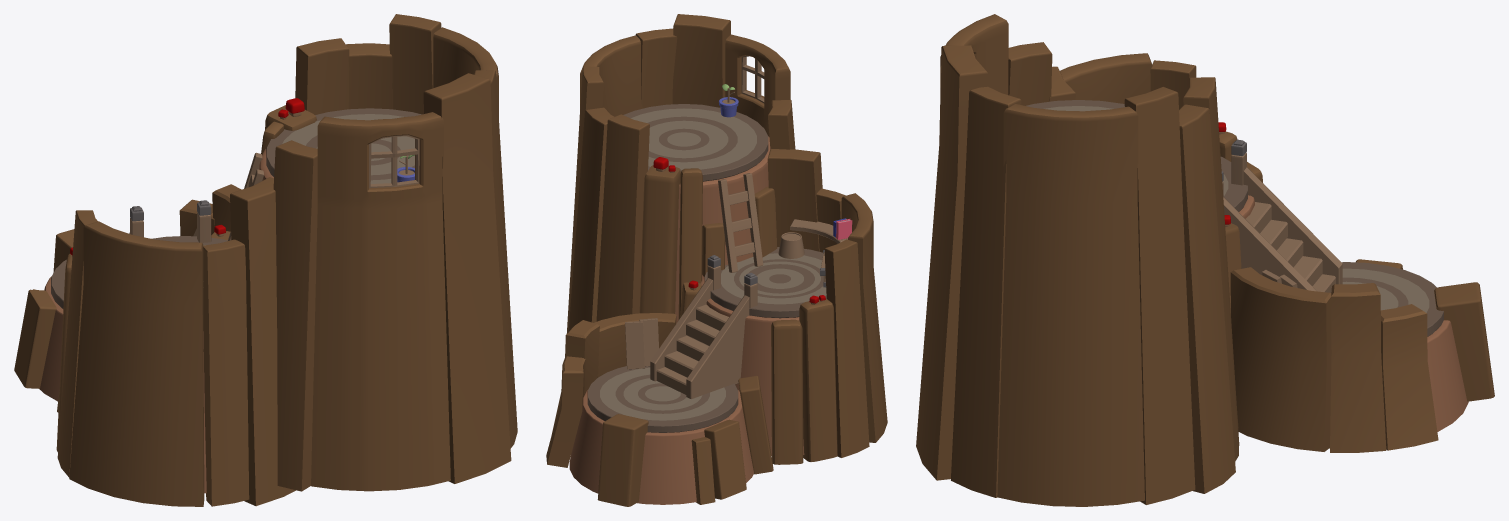
The model's file is Stump_House.fbx.
3 views of the same model, side by side, from view 1: azimuth 30°, elevation 25°; view 2: azimuth 150°, elevation 25°; view 3: azimuth 270°, elevation 25° (orthographic). The views are drawn at different scales.
Parts seen in each view (by area): view 1: polySurface3, polySurface14, polySurface8, polySurface11, polySurface16, polySurface17, polySurface10, polySurface13, polySurface15, polySurface7, pCylinder1, polySurface12 (+11 smaller); view 2: pCylinder4, pCylinder1, polySurface13, polySurface33, pCylinder3, polySurface15, polySurface12, pCube8, pCube10, polySurface14, polySurface8, pCube7 (+24 smaller); view 3: polySurface9, polySurface10, polySurface7, polySurface21, polySurface8, polySurface12, polySurface23, polySurface33, polySurface27, pCylinder4, pCube20, polySurface13 (+7 smaller).
Boxes of the visible parts, box(x1,y1,x2,y2) form: polySurface3: box(311, 112, 450, 491); polySurface14: box(69, 221, 204, 506); polySurface8: box(423, 73, 511, 483); polySurface11: box(273, 140, 317, 491); polySurface16: box(203, 239, 249, 506); polySurface17: box(230, 177, 295, 506); polySurface10: box(389, 14, 441, 114); polySurface13: box(295, 38, 349, 114); polySurface15: box(57, 210, 97, 477); polySurface7: box(474, 70, 517, 448); pCylinder1: box(259, 108, 421, 490); polySurface12: box(346, 43, 392, 109); pCylinder4: box(569, 366, 753, 504); pCylinder1: box(623, 104, 770, 323); polySurface13: box(596, 114, 649, 321); polySurface33: box(650, 255, 757, 398); pCylinder3: box(700, 247, 826, 455); polySurface15: box(824, 239, 869, 457); polySurface12: box(568, 107, 614, 331); pCube8: box(799, 299, 837, 461); pCube10: box(639, 165, 680, 313); polySurface14: box(841, 193, 887, 442); polySurface8: box(672, 14, 730, 107); pCube7: box(771, 319, 803, 464); polySurface9: box(997, 104, 1144, 506); polySurface10: box(1124, 87, 1195, 504); polySurface7: box(951, 86, 1021, 497); polySurface21: box(1230, 267, 1331, 451); polySurface8: box(916, 45, 988, 480); polySurface12: box(1179, 104, 1235, 493); polySurface23: box(1330, 283, 1386, 452); polySurface33: box(1221, 139, 1342, 292); polySurface27: box(1380, 304, 1438, 450); pCylinder4: box(1329, 262, 1468, 448); pCube20: box(1434, 282, 1494, 401); polySurface13: box(1183, 77, 1239, 461).
Bounding box in the file's own units: 40.42 × 38.44 × 48.39.
